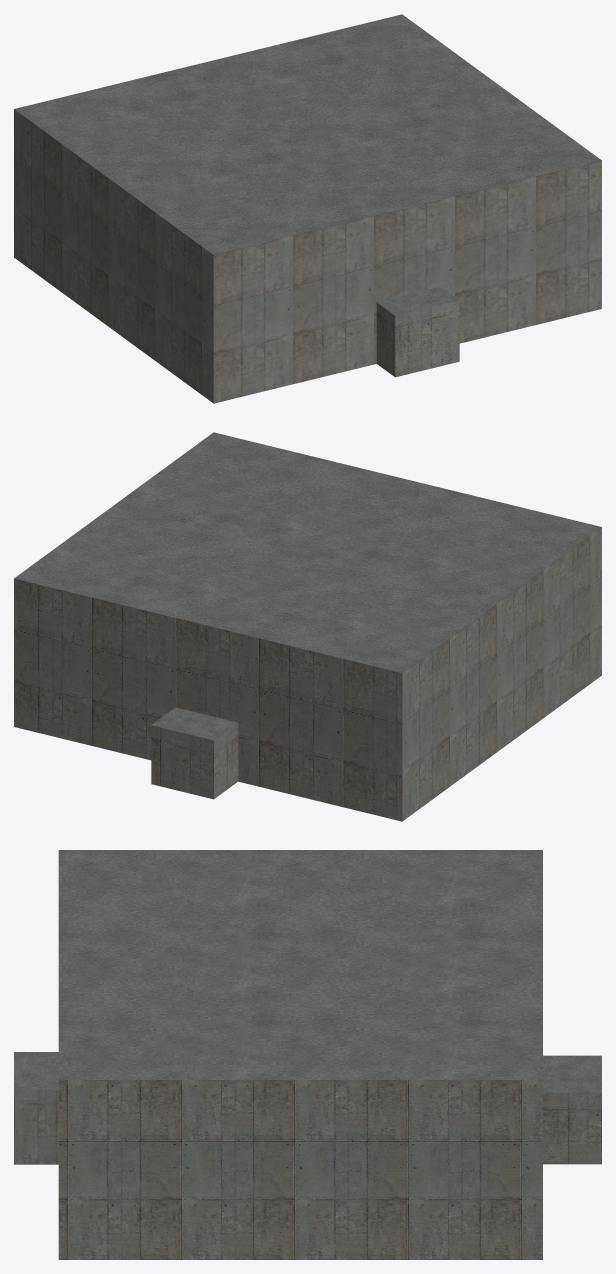
The model's file is defaultMap.glb.
The picture shows the model from 3 angles, top to bottom: view 1: azimuth 30°, elevation 25°; view 2: azimuth 150°, elevation 25°; view 3: azimuth 270°, elevation 25°; orthographic projection. The views are drawn at different scales.
Parts seen in each view (by area): view 1: Plane.001, Plane.002; view 2: Plane.001, Plane.002; view 3: Plane.002, Plane.001.
Part boxes in pixels (x1=…): Plane.001: x1=14, y1=109, x2=601, y2=403; Plane.002: x1=14, y1=14, x2=601, y2=315; Plane.001: x1=14, y1=527, x2=601, y2=821; Plane.002: x1=14, y1=432, x2=601, y2=740; Plane.002: x1=14, y1=850, x2=601, y2=1092; Plane.001: x1=14, y1=1080, x2=601, y2=1259.
Bounding box in the file's own units: 24.14 × 8.82 × 26.11.
3 materials, 3 textured.
